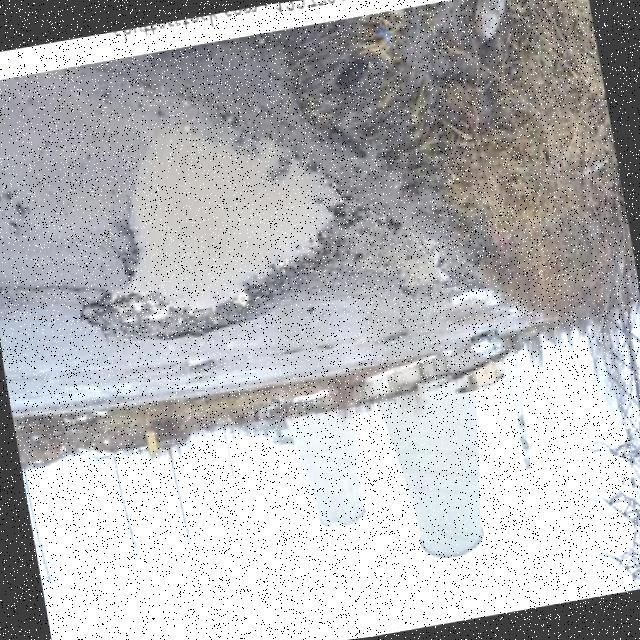Pothole: (79, 124, 340, 339)
